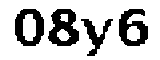0: (13, 7, 47, 49)
6: (116, 6, 149, 49)
8: (48, 6, 82, 51)
y: (81, 15, 112, 60)
